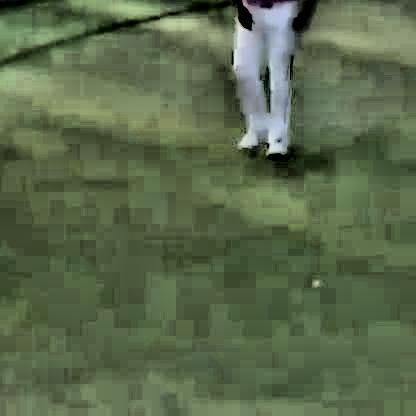golfball: (308, 275, 319, 286)
